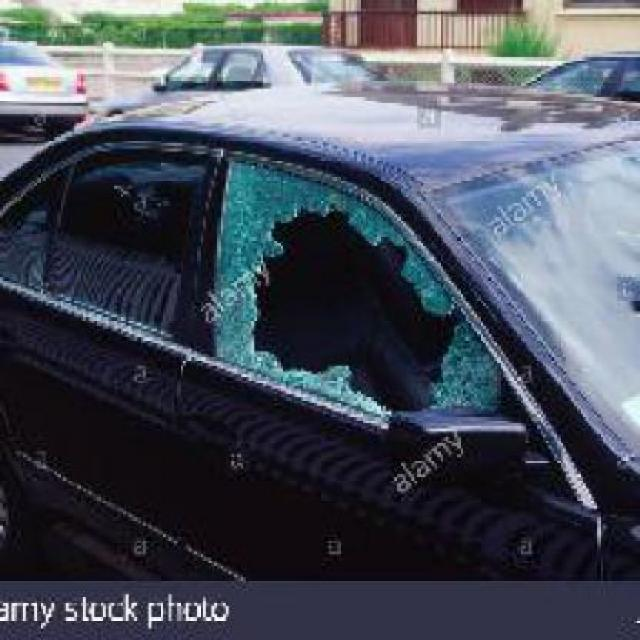damaged-window: (214, 142, 591, 473)
